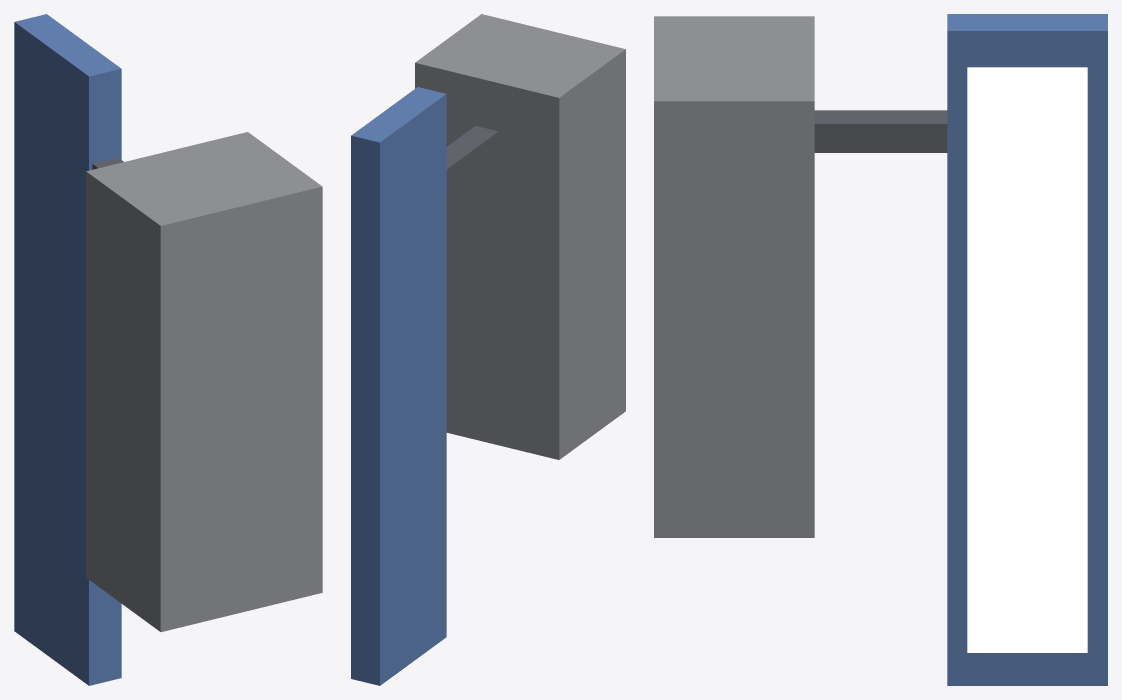
File: prop_kanban_sode_vert_blue.glb
The picture shows the model from 3 angles, left to right: view 1: azimuth 30°, elevation 25°; view 2: azimuth 150°, elevation 25°; view 3: azimuth 270°, elevation 25°; orthographic projection. The views are drawn at different scales.
Visible parts, largest first — view 1: kanban_sode_vert_blue; view 2: kanban_sode_vert_blue; view 3: kanban_sode_vert_blue.
Boxes of the visible parts, left/top/right/bottom form: kanban_sode_vert_blue: left=14, top=14, right=322, bottom=685; kanban_sode_vert_blue: left=351, top=14, right=625, bottom=685; kanban_sode_vert_blue: left=654, top=14, right=1107, bottom=685.
Size of the model in its own units: 0.5 by 1.8 by 1.13.
